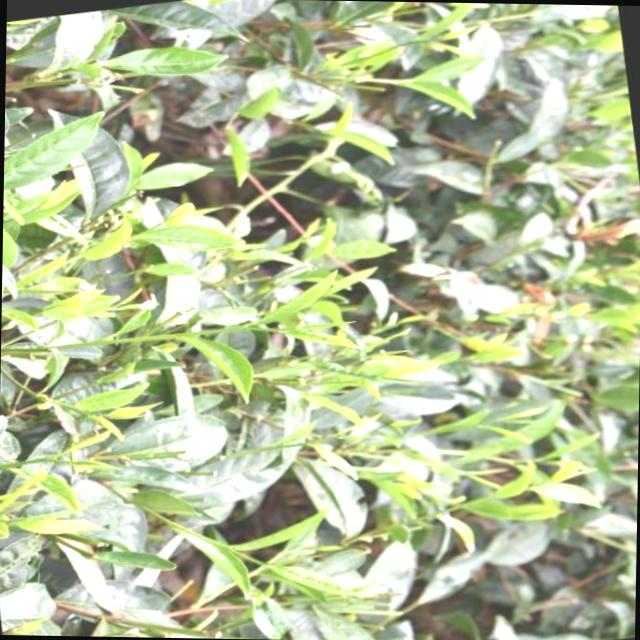Stem: (223, 324, 244, 330), (252, 558, 266, 567), (31, 456, 46, 463), (60, 402, 72, 409), (382, 79, 396, 84), (294, 442, 306, 446)
